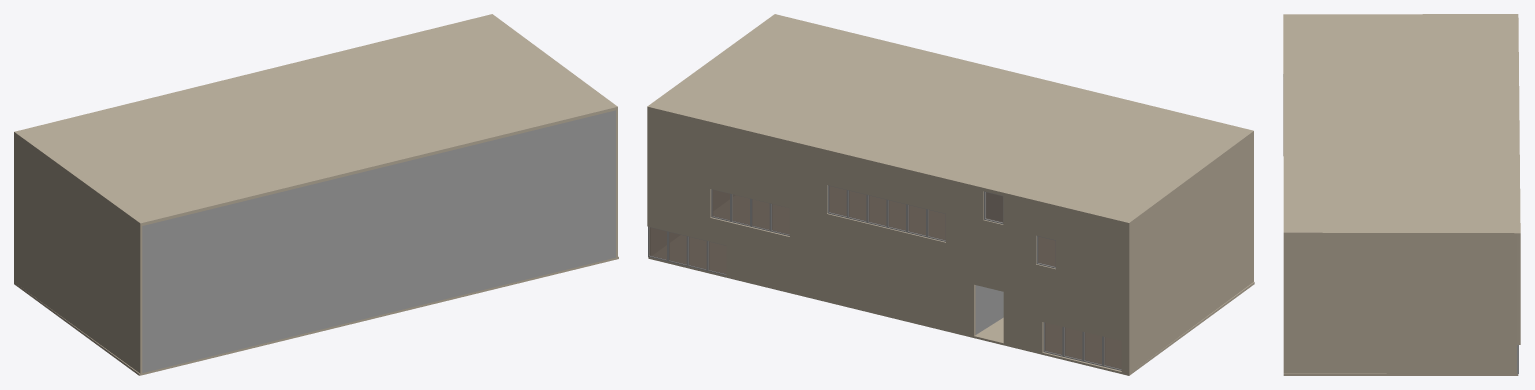
Rendered from hnew5.gltf.
The picture shows the model from 3 angles, left to right: view 1: azimuth 30°, elevation 25°; view 2: azimuth 150°, elevation 25°; view 3: azimuth 270°, elevation 25°; orthographic projection. The views are drawn at different scales.
Size of the model in its own units: 5835 by 1773 by 2668.
